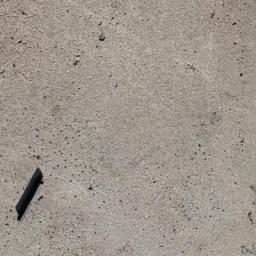FOD: (13, 168, 49, 225)
